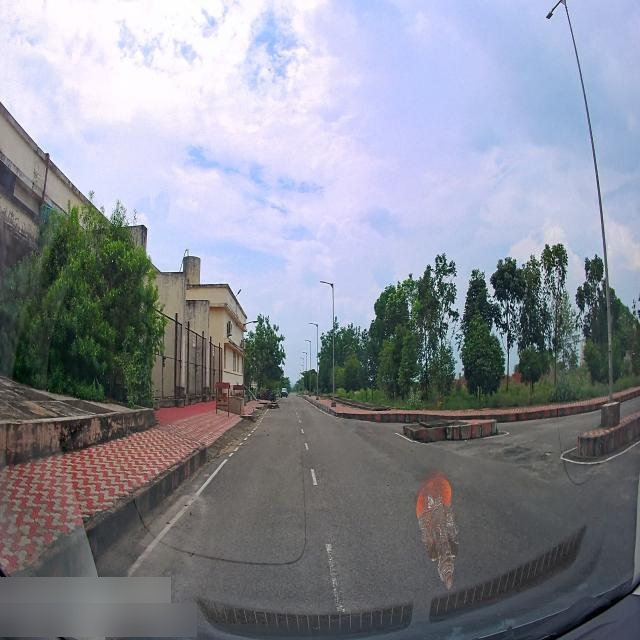pothole: (162, 565, 173, 578), (504, 449, 519, 458), (543, 448, 554, 459)
